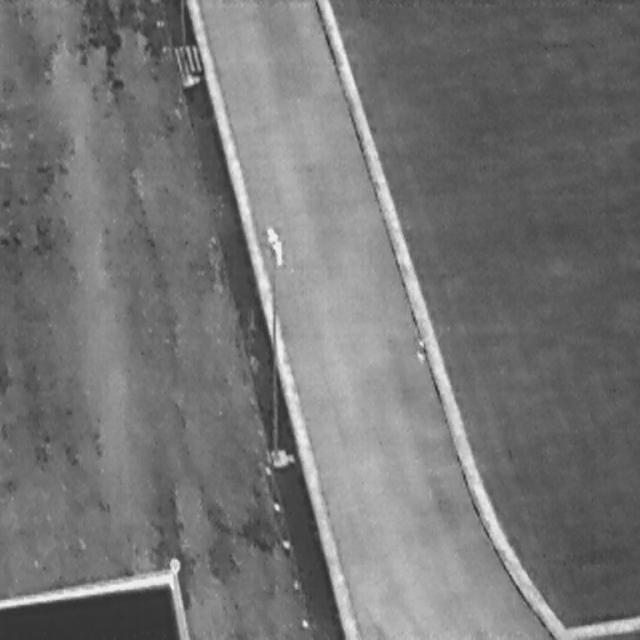Person: (270, 238, 284, 268), (264, 222, 277, 244), (415, 336, 425, 362)
